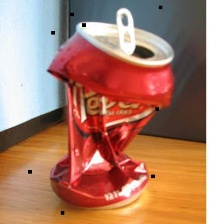can: (42, 5, 182, 210)
